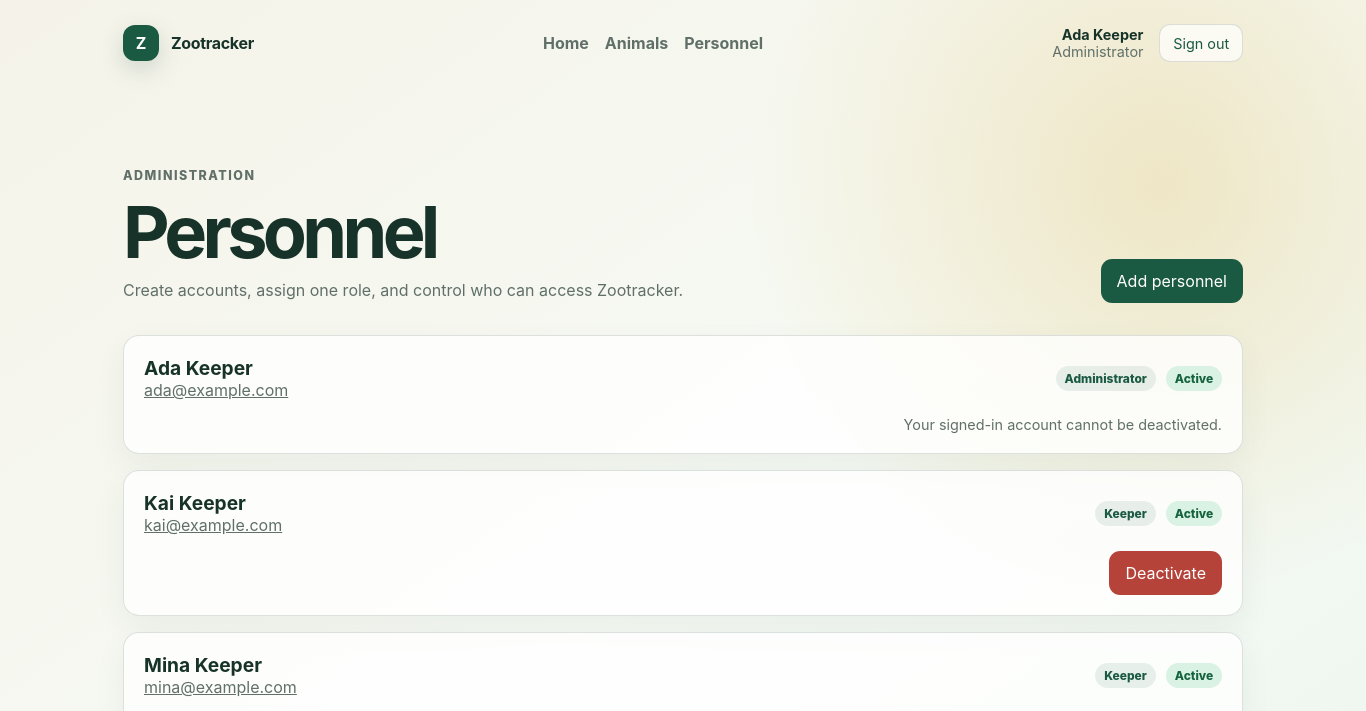
Test: App authentication › confirms deactivation and can reactivate an inactive account
Click the 1st button "Deactivate": (1166, 573) 1109,551 -> 1222,595
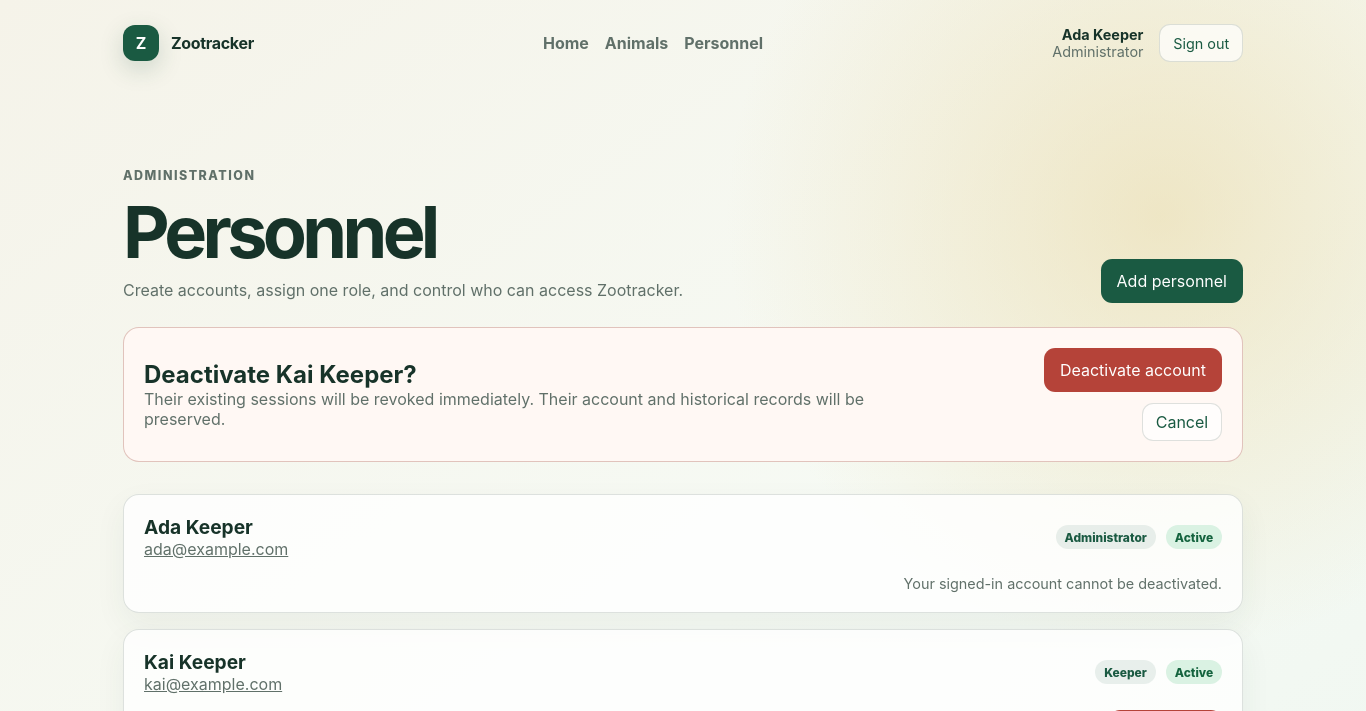
Check: the heading "Deactivate Kai Keeper?" is shown, box 144,360 -> 417,389
Click the button "Deactivate account": (1133, 370) 1044,348 -> 1222,392
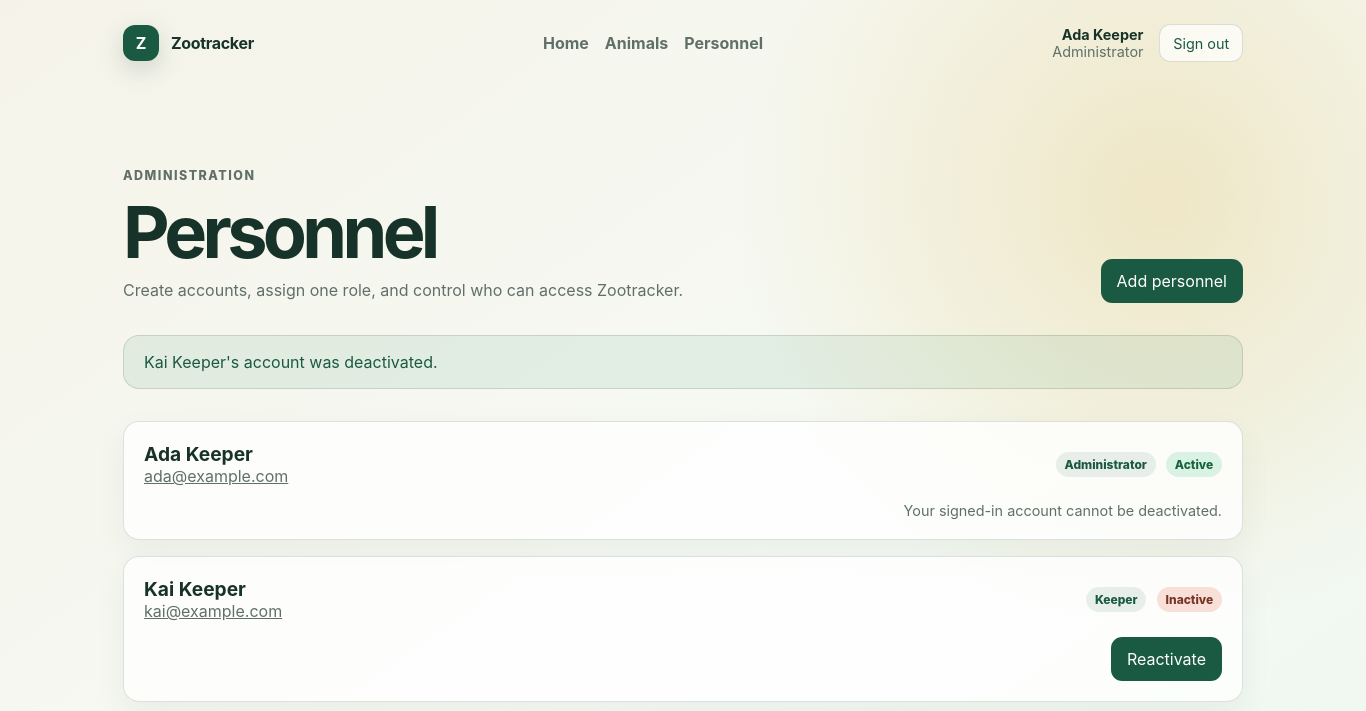
Check: the text "Kai Keeper's account was deactivated." is shown, box 123,335 -> 1243,389
Check: the text "Inactive" is shown, box 1157,587 -> 1222,612
Click the button "Reactivate": (1166, 659) 1111,637 -> 1222,681
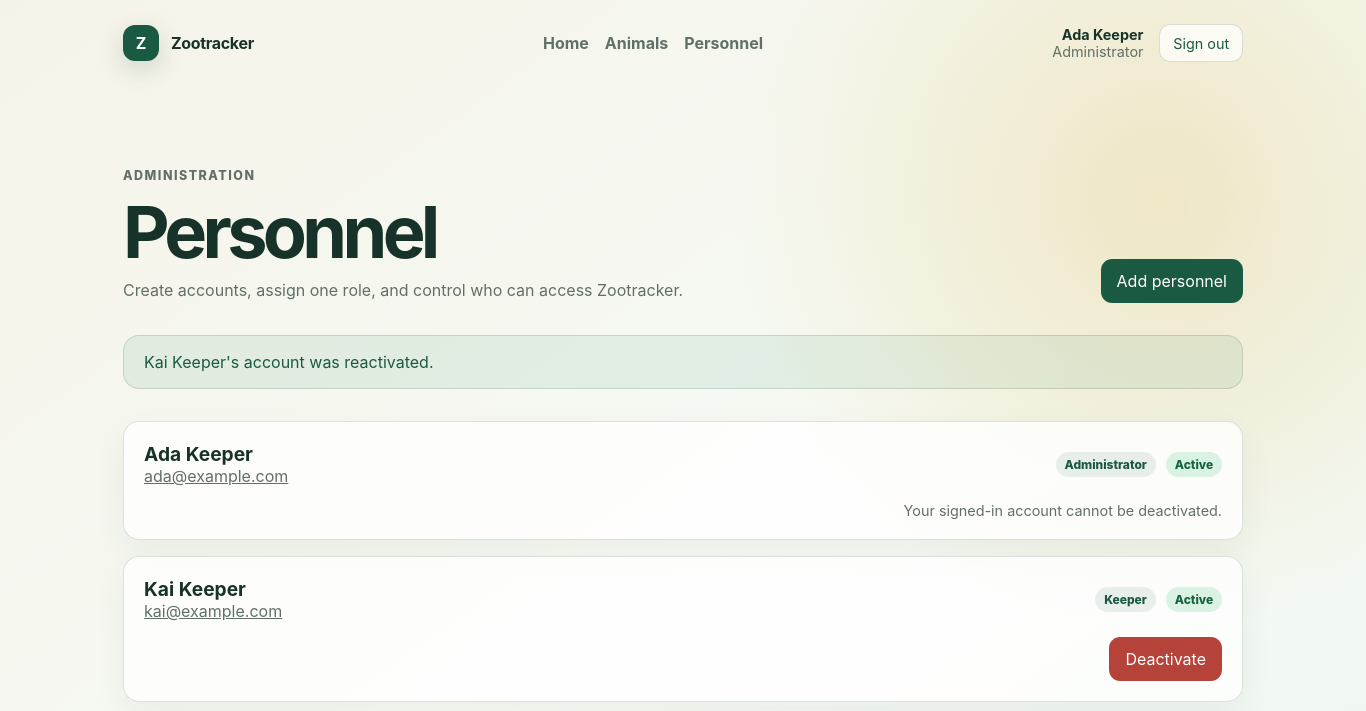
Check: the text "Kai Keeper's account was reactivated." is shown, box 123,335 -> 1243,389
